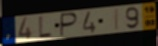4: (18, 16, 34, 41), (83, 11, 97, 34)
9: (125, 6, 141, 30)
I: (114, 8, 120, 32)
L: (37, 15, 53, 40)
P: (59, 12, 79, 38)
